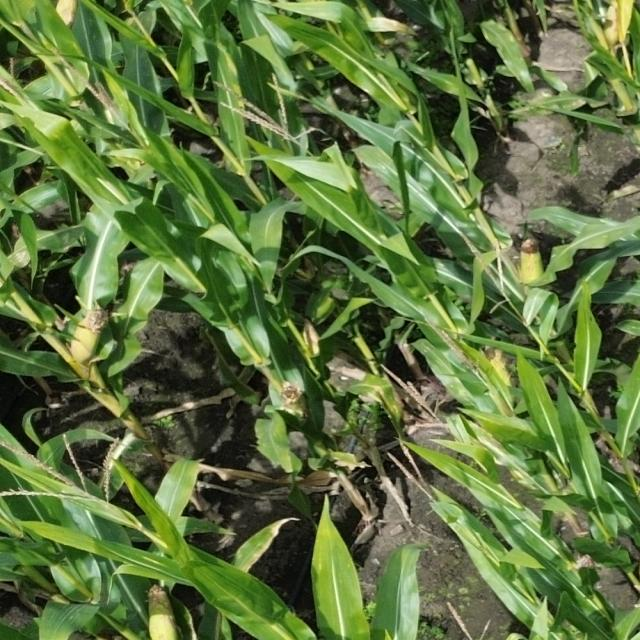gray-leaf-spot: (496, 35, 528, 70), (566, 213, 613, 235), (444, 376, 476, 404), (11, 245, 37, 267)
northern-leaf-blight: (363, 379, 396, 401)
southern-leaf-blight: (184, 518, 218, 534)
